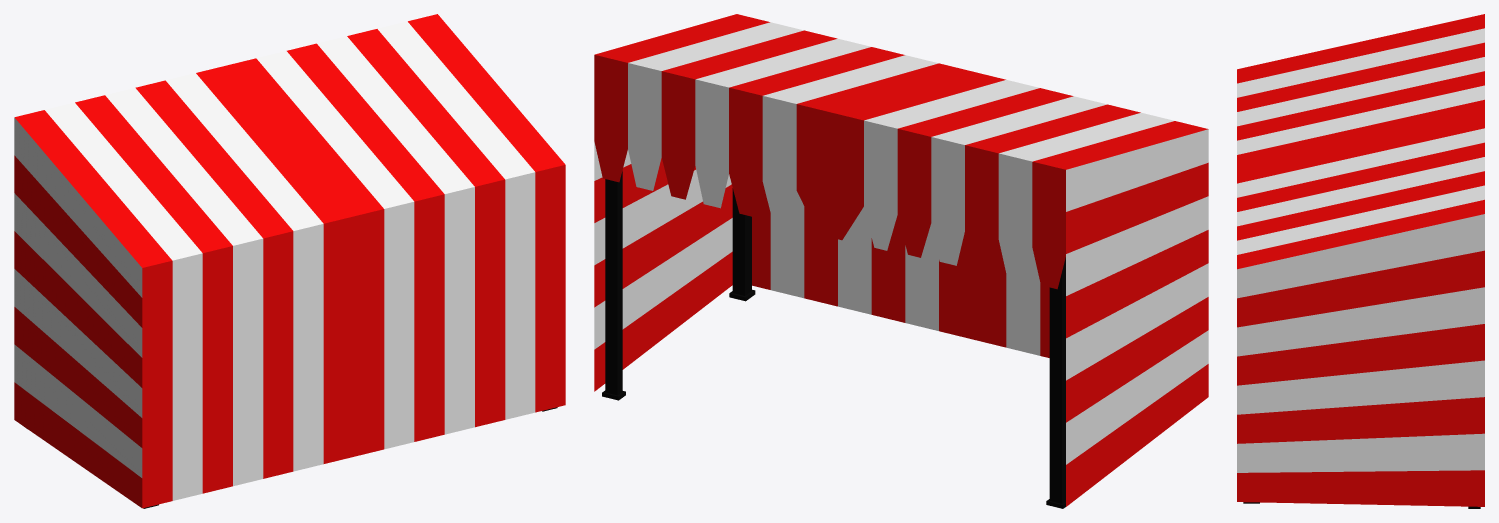
The model's file is petiteechoperouge.fbx.
3 renders of one model, left to right at view 1: azimuth 30°, elevation 25°; view 2: azimuth 150°, elevation 25°; view 3: azimuth 270°, elevation 25°, orthographic. The views are drawn at different scales.
Parts seen in each view (by area): view 1: petiteechoperouge; view 2: petiteechoperouge; view 3: petiteechoperouge.
Part boxes in pixels (<box>): petiteechoperouge: <box>14,14,565,508</box>; petiteechoperouge: <box>594,14,1208,508</box>; petiteechoperouge: <box>1237,14,1484,508</box>.
Bounding box in the file's own units: 1154 × 800 × 604.
